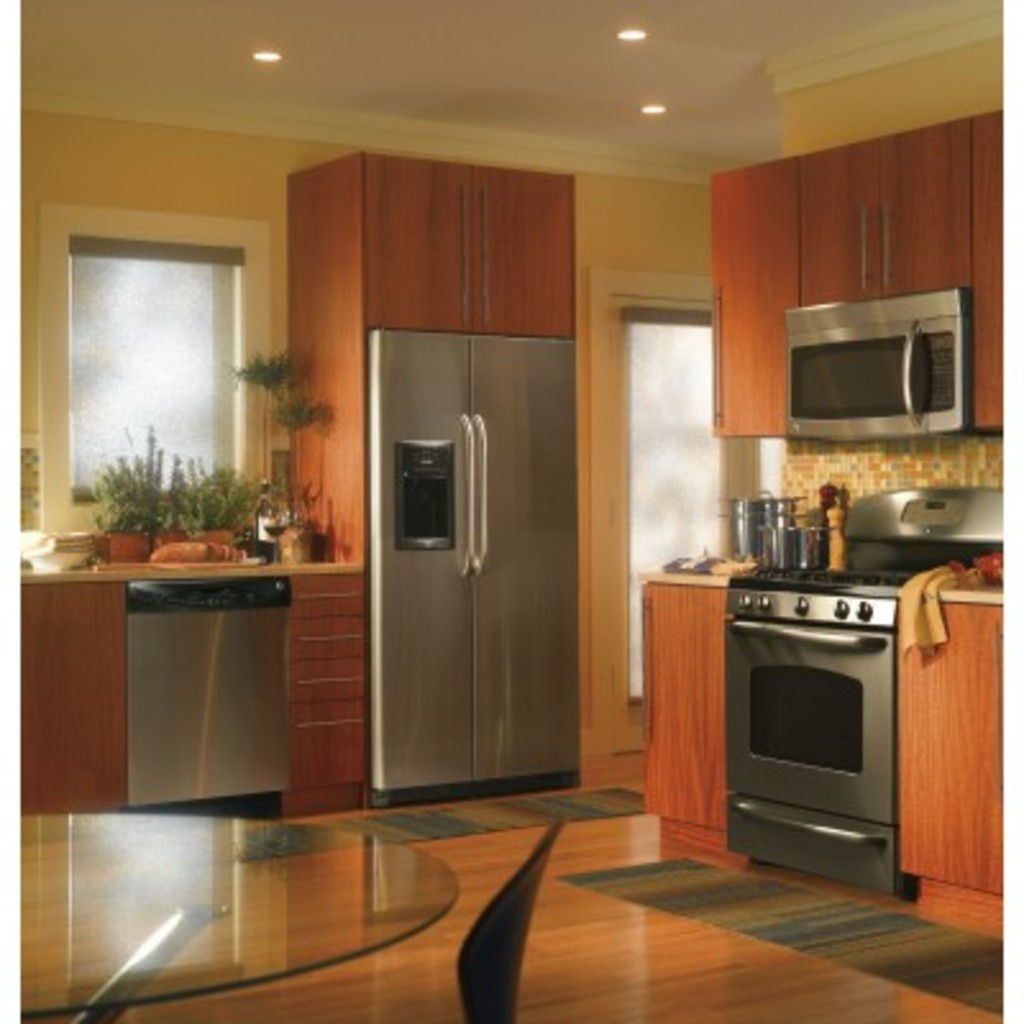cabinet door: (719, 188, 792, 441), (369, 164, 472, 329), (654, 579, 721, 811), (871, 141, 966, 290), (479, 182, 574, 323), (803, 155, 870, 302), (291, 697, 363, 774), (294, 653, 370, 695), (294, 573, 366, 613), (295, 620, 363, 656)
handle: (734, 789, 875, 859), (735, 619, 877, 668), (461, 412, 482, 583), (475, 415, 490, 576), (297, 660, 365, 694), (458, 183, 475, 316), (710, 287, 724, 442), (646, 590, 659, 744), (306, 704, 364, 737), (902, 323, 921, 421), (301, 579, 363, 609), (302, 624, 362, 653), (878, 205, 893, 299), (481, 198, 492, 320), (851, 209, 866, 294)
refrigerator door: (472, 330, 578, 779), (380, 324, 472, 785)
